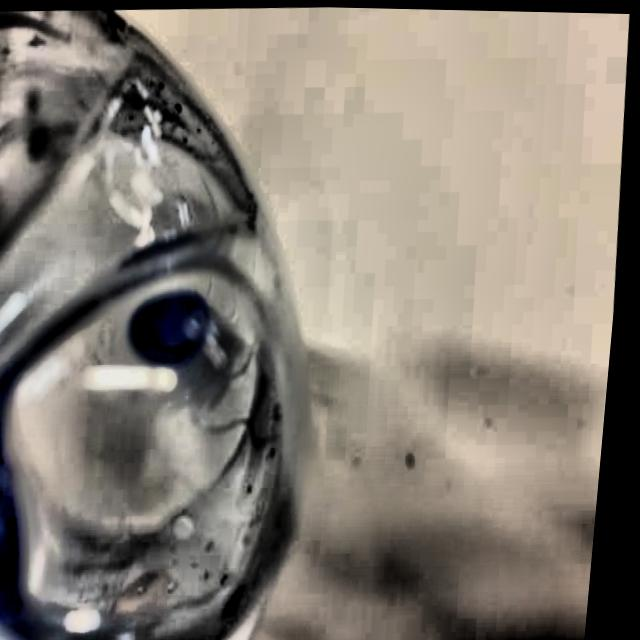Plastic: (0, 0, 381, 640)
